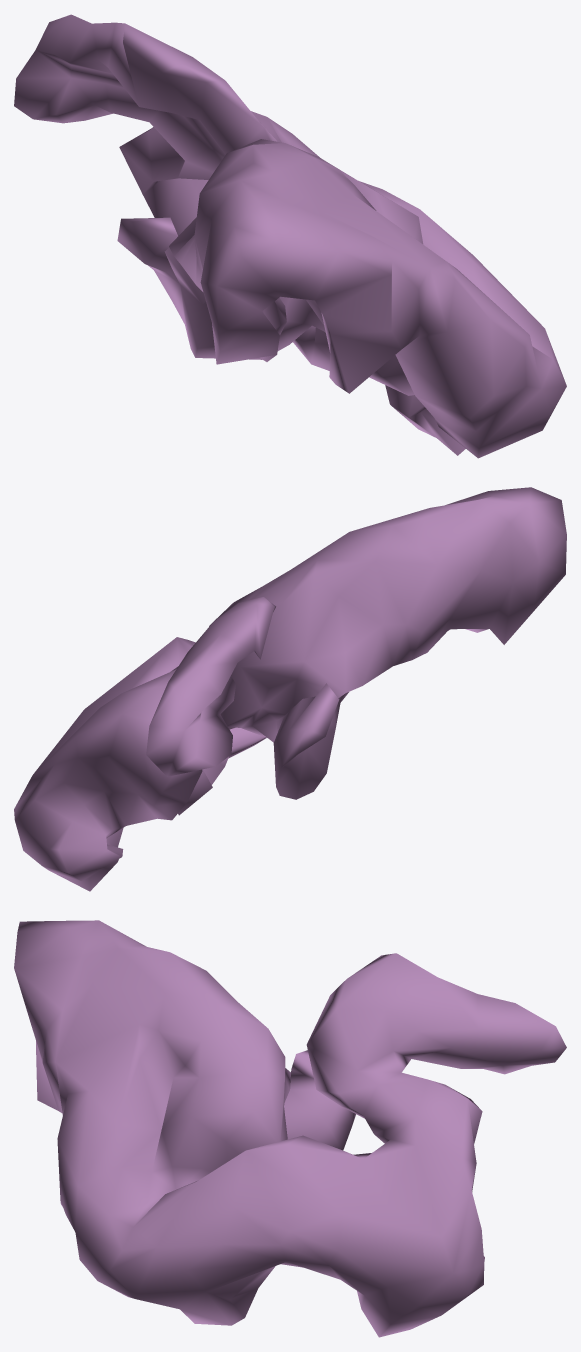
3 views of the same model, one above another, from view 1: azimuth 30°, elevation 25°; view 2: azimuth 150°, elevation 25°; view 3: azimuth 270°, elevation 25° (orthographic). The views are drawn at different scales.
Visible parts, largest first — view 1: 左侧枕外侧回（枕中回）; view 2: 左侧枕外侧回（枕中回）; view 3: 左侧枕外侧回（枕中回）.
Boxes of the visible parts, x1=… form: 左侧枕外侧回（枕中回）: x1=14, y1=14, x2=566, y2=458; 左侧枕外侧回（枕中回）: x1=14, y1=487, x2=566, y2=891; 左侧枕外侧回（枕中回）: x1=14, y1=920, x2=566, y2=1337.
Bounding box in the file's own units: 0.0442 × 0.0407 × 0.0662.
